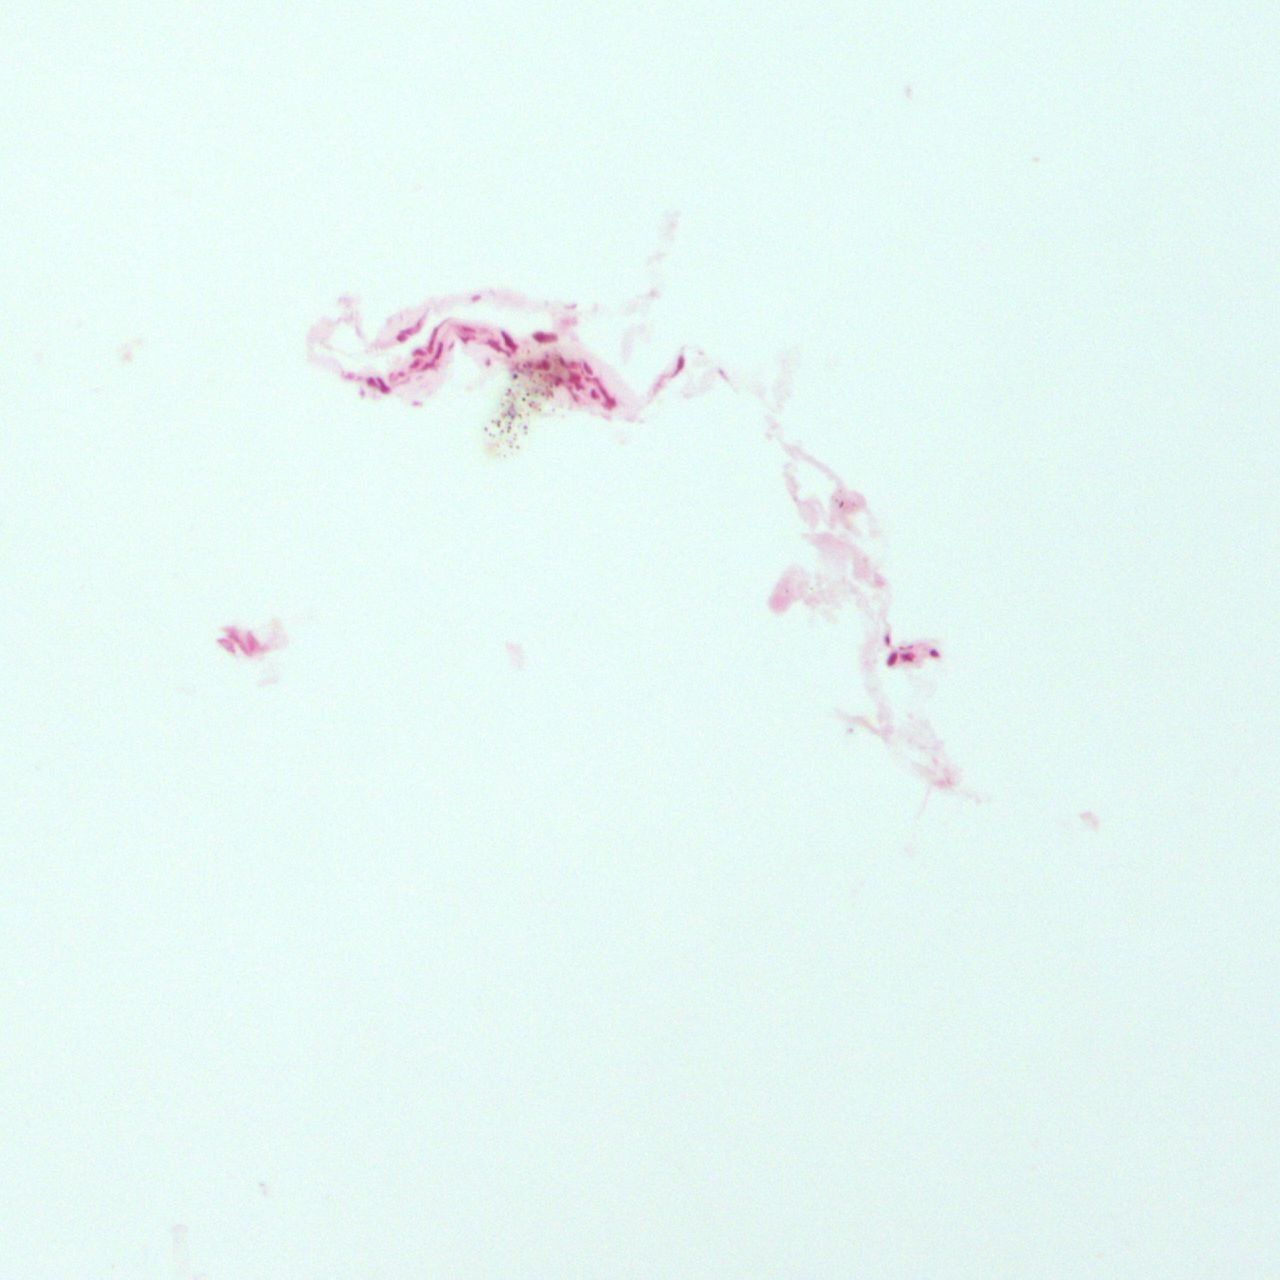dust: (488, 433, 495, 437), (540, 392, 545, 397), (497, 420, 501, 427), (552, 408, 556, 414), (513, 374, 517, 380), (538, 373, 542, 377), (523, 425, 527, 429), (515, 445, 519, 449), (503, 454, 506, 458), (527, 403, 532, 407), (535, 390, 538, 394), (522, 397, 525, 401), (484, 427, 488, 430), (508, 425, 511, 429), (506, 429, 510, 433), (501, 429, 504, 433), (524, 431, 527, 435), (508, 388, 511, 392), (537, 408, 540, 411), (518, 414, 520, 418), (526, 393, 529, 396), (511, 416, 515, 418), (508, 445, 513, 447)
nucleus-AC: (394, 311, 427, 347), (224, 625, 252, 658), (591, 375, 618, 408), (497, 331, 518, 352), (668, 354, 687, 377), (217, 636, 237, 654), (425, 327, 440, 350), (531, 332, 557, 342), (568, 373, 583, 392), (580, 360, 595, 376), (375, 377, 390, 394), (420, 358, 437, 372), (245, 634, 258, 652), (433, 341, 445, 359), (365, 375, 377, 388), (588, 388, 600, 401), (886, 652, 897, 666), (556, 355, 567, 367), (409, 359, 421, 370), (461, 325, 475, 334), (900, 653, 914, 661), (539, 360, 549, 370), (470, 293, 481, 302), (459, 336, 471, 343), (411, 349, 425, 355), (930, 649, 939, 658), (553, 377, 563, 386), (389, 373, 397, 381), (345, 373, 353, 379), (359, 389, 365, 396), (486, 358, 491, 366), (885, 635, 888, 645), (411, 402, 421, 406), (399, 372, 406, 376), (906, 645, 912, 648), (899, 646, 904, 649)
